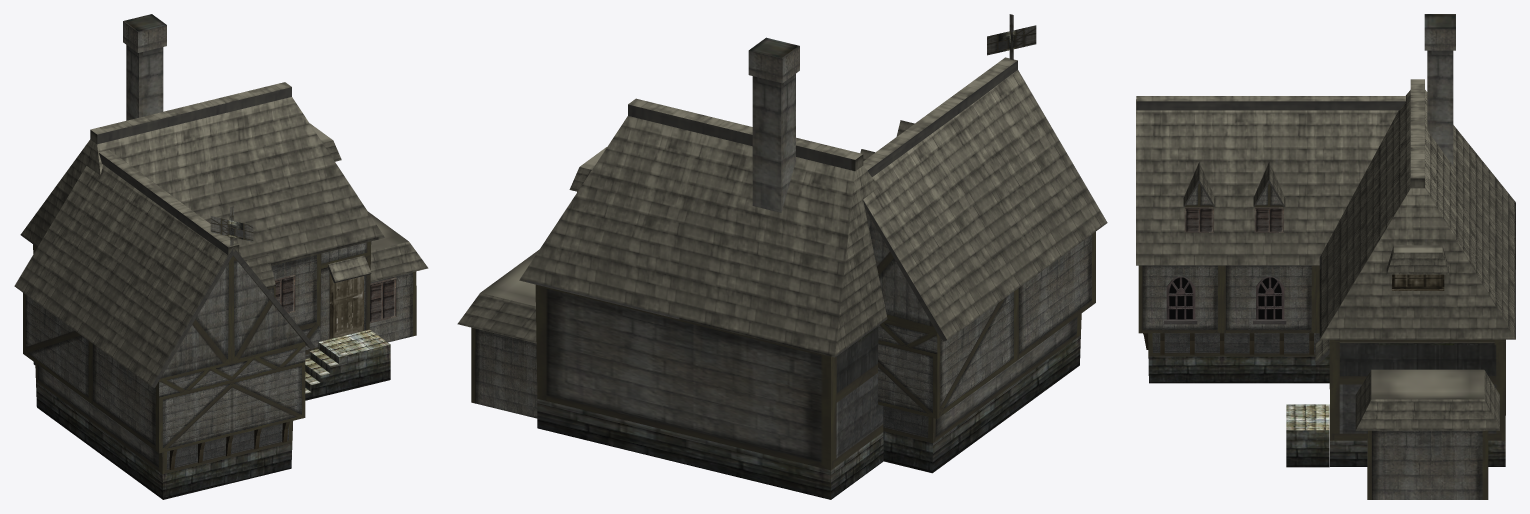
Rendered from Casa6.obj.
3 views of the same model, side by side, from view 1: azimuth 30°, elevation 25°; view 2: azimuth 150°, elevation 25°; view 3: azimuth 270°, elevation 25° (orthographic). The views are drawn at different scales.
Parts seen in each view (by area): view 1: Box06; view 2: Box06; view 3: Box06.
Part boxes in pixels (x1,y1,x2,y2): Box06: (14, 14, 428, 499); Box06: (457, 14, 1107, 499); Box06: (1136, 14, 1515, 499).
Bounding box in the file's own units: 378 × 325 × 312.
Materials: 3 (3 with a texture image).
